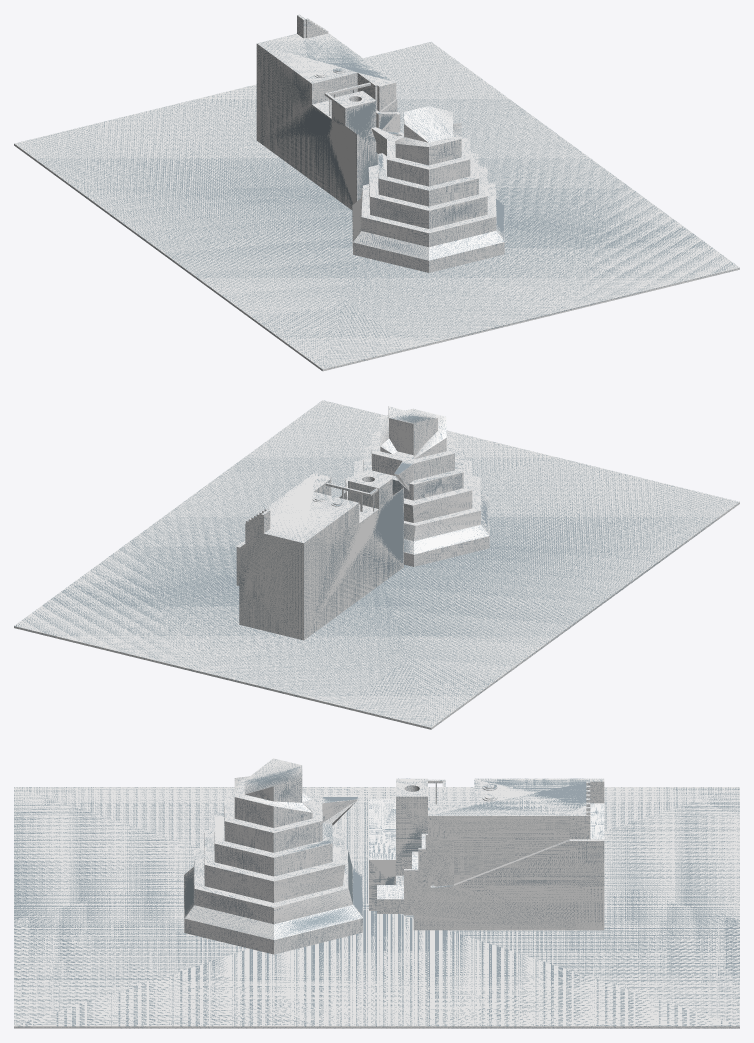
The model's file is level4.fbx.
The picture shows the model from 3 angles, top to bottom: view 1: azimuth 30°, elevation 25°; view 2: azimuth 150°, elevation 25°; view 3: azimuth 270°, elevation 25°; orthographic projection. The views are drawn at different scales.
Visible parts, largest first — view 1: Group6, Group25, Group74; view 2: Group6, Group74, Group25; view 3: Group6, Group74, Group25.
Part boxes in pixels (x1,y1,x2,y2): Group6: [14, 42, 739, 371]; Group25: [352, 106, 504, 272]; Group74: [256, 33, 403, 209]; Group6: [14, 400, 739, 729]; Group74: [236, 471, 403, 640]; Group25: [339, 406, 489, 566]; Group6: [14, 787, 739, 1028]; Group74: [369, 778, 604, 930]; Group25: [184, 758, 362, 954].
Size of the model in its own units: 562 by 154 by 720.
